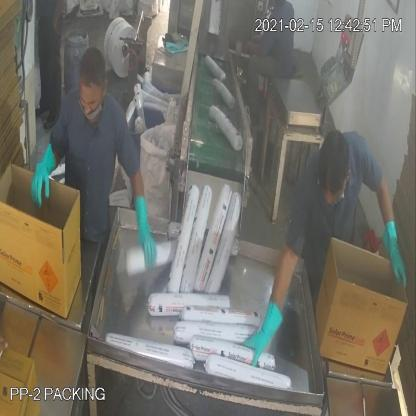glove: (245, 293, 285, 370), (130, 183, 160, 274), (29, 140, 62, 213), (385, 210, 411, 298)
